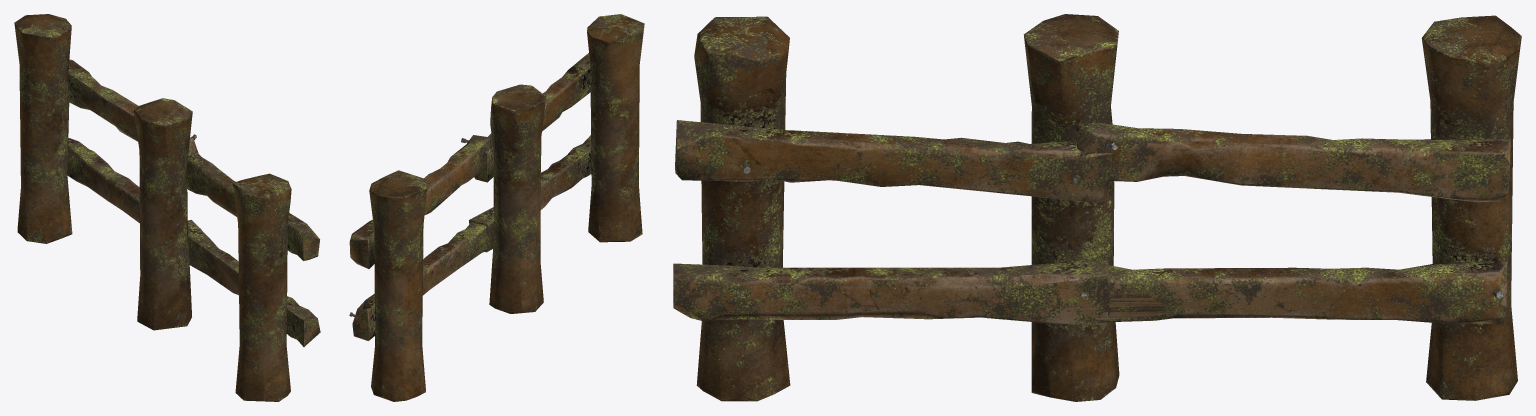
The model's file is old_wooden_fence.glb.
The picture shows the model from 3 angles, left to right: view 1: azimuth 30°, elevation 25°; view 2: azimuth 150°, elevation 25°; view 3: azimuth 270°, elevation 25°; orthographic projection. The views are drawn at different scales.
Visible parts, largest first — view 1: pCylinder20, pCube45; view 2: pCylinder20, pCube45; view 3: pCube45, pCylinder20.
Part boxes in pixels (bbox=[...]): pCylinder20: bbox=[14, 14, 291, 401]; pCube45: bbox=[67, 59, 320, 346]; pCylinder20: bbox=[369, 14, 644, 401]; pCube45: bbox=[349, 53, 591, 340]; pCube45: bbox=[673, 120, 1510, 325]; pCylinder20: bbox=[694, 14, 1521, 401].
Bounding box in the file's own units: 0.9011 × 2.58 × 5.65.
3 materials, 3 textured.
